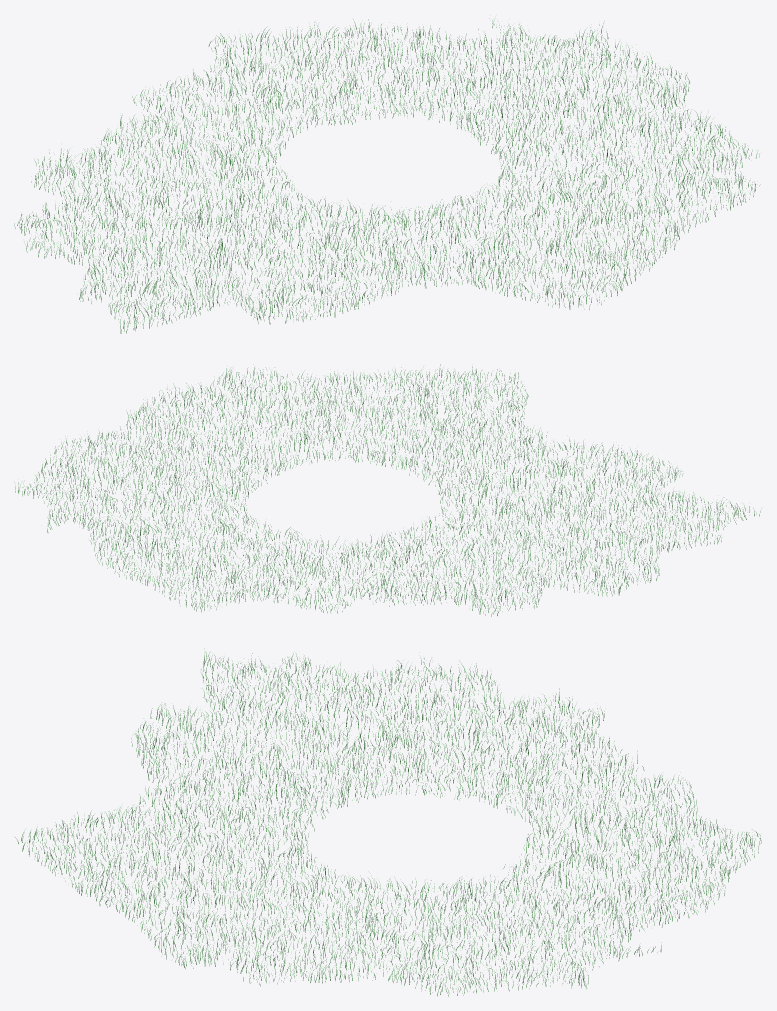
The model's file is Grass005Latest.fbx.
The picture shows the model from 3 angles, top to bottom: view 1: azimuth 30°, elevation 25°; view 2: azimuth 150°, elevation 25°; view 3: azimuth 270°, elevation 25°; orthographic projection. The views are drawn at different scales.
Parts seen in each view (by area): view 1: Grass_Curves.005, Grass_Curves.005_Tile_-1_-1, Grass_Curves.005_Tile_0_-1, Grass_Curves.005_Tile_-2_-1, Grass_Curves.005_Tile_0_-2; view 2: Grass_Curves.005, Grass_Curves.005_Tile_0_-1, Grass_Curves.005_Tile_-1_-1, Grass_Curves.005_Tile_-2_-1, Grass_Curves.005_Tile_0_-2; view 3: Grass_Curves.005, Grass_Curves.005_Tile_-1_-1, Grass_Curves.005_Tile_0_-1, Grass_Curves.005_Tile_-2_-1, Grass_Curves.005_Tile_0_-2.
Boxes of the visible parts, x1,y1,x2,y2 form: Grass_Curves.005: (14,17,689,252); Grass_Curves.005_Tile_-1_-1: (106,181,552,324); Grass_Curves.005_Tile_0_-1: (449,88,760,285); Grass_Curves.005_Tile_-2_-1: (38,230,200,333); Grass_Curves.005_Tile_0_-2: (561,254,662,309); Grass_Curves.005: (15,435,657,616); Grass_Curves.005_Tile_0_-1: (97,367,484,483); Grass_Curves.005_Tile_-1_-1: (396,396,684,562); Grass_Curves.005_Tile_-2_-1: (596,492,760,575); Grass_Curves.005_Tile_0_-2: (395,364,514,394); Grass_Curves.005: (415,658,761,996); Grass_Curves.005_Tile_-1_-1: (83,691,418,842); Grass_Curves.005_Tile_0_-1: (82,832,418,983); Grass_Curves.005_Tile_-2_-1: (201,648,416,701); Grass_Curves.005_Tile_0_-2: (15,832,83,895).
Size of the model in its own units: 48.18 by 1.39 by 44.85.
